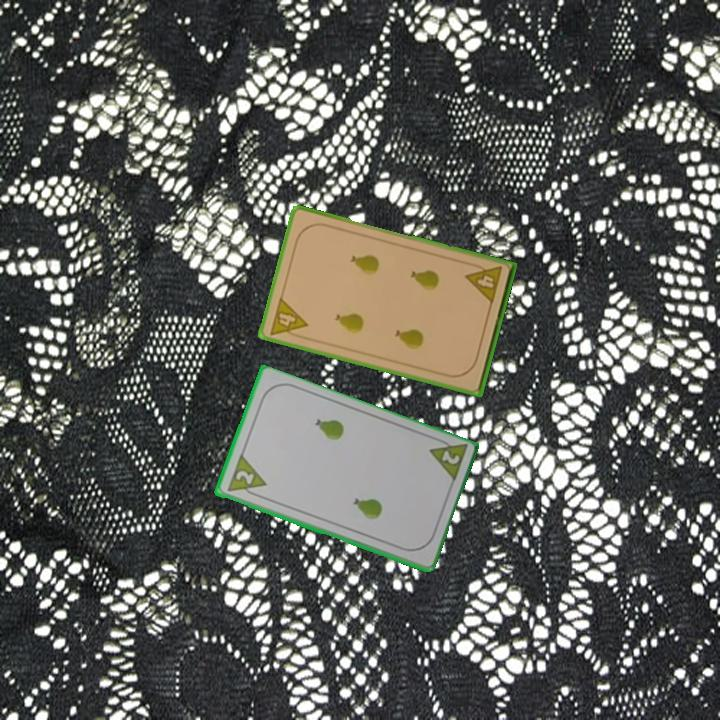2p: (223, 452, 269, 501), (437, 447, 462, 468)
4p: (266, 294, 310, 342), (462, 259, 505, 307)
